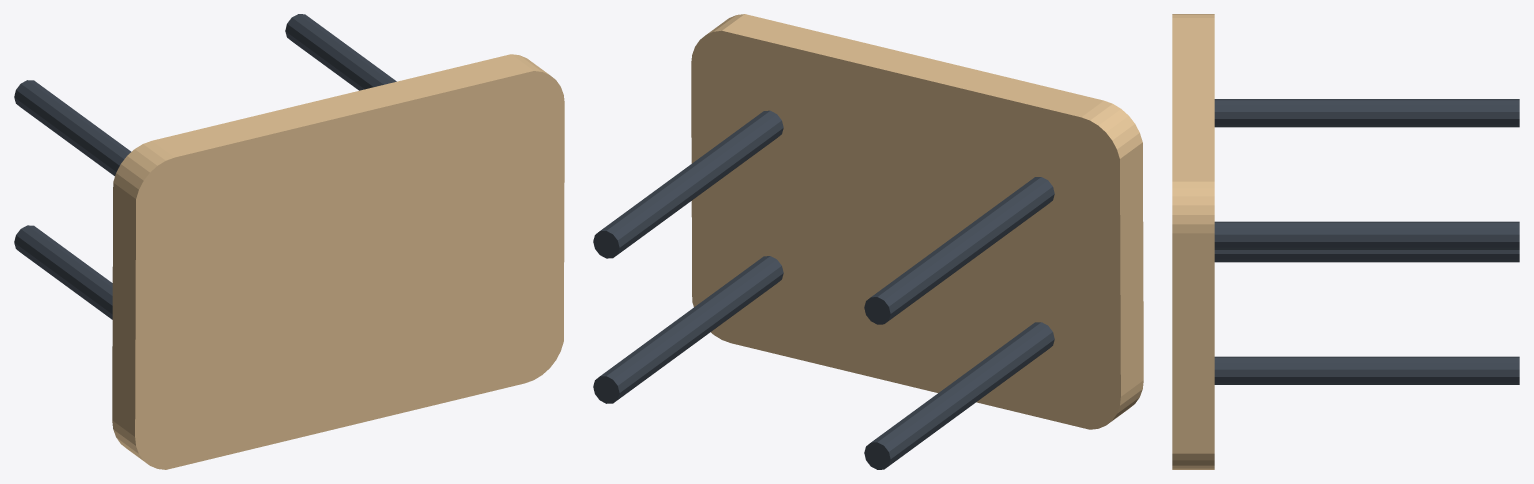
The model's file is TABLE_SIDE_001.glb.
The picture shows the model from 3 angles, left to right: view 1: azimuth 30°, elevation 25°; view 2: azimuth 150°, elevation 25°; view 3: azimuth 270°, elevation 25°; orthographic projection. The views are drawn at different scales.
Visible parts, largest first — view 1: top_000, leg_002, leg_001, leg_004; view 2: top_000, leg_004, leg_003, leg_001, leg_002; view 3: top_000, leg_002, leg_003, leg_004, leg_001.
Boxes of the visible parts, x1=… form: top_000: x1=112, y1=54, x2=564, y2=469; leg_002: x1=14, y1=80, x2=131, y2=176; leg_001: x1=14, y1=225, x2=112, y2=319; leg_004: x1=285, y1=14, x2=396, y2=90; top_000: x1=691, y1=14, x2=1143, y2=429; leg_004: x1=593, y1=110, x2=783, y2=258; leg_003: x1=593, y1=256, x2=783, y2=403; leg_001: x1=864, y1=322, x2=1054, y2=469; leg_002: x1=864, y1=177, x2=1054, y2=324; top_000: x1=1172, y1=14, x2=1214, y2=469; leg_002: x1=1214, y1=99, x2=1519, y2=127; leg_003: x1=1214, y1=356, x2=1519, y2=384; leg_004: x1=1214, y1=221, x2=1519, y2=249; leg_001: x1=1214, y1=250, x2=1519, y2=262.
Bounding box in the file's own units: 0.65 × 0.45 × 0.49.
